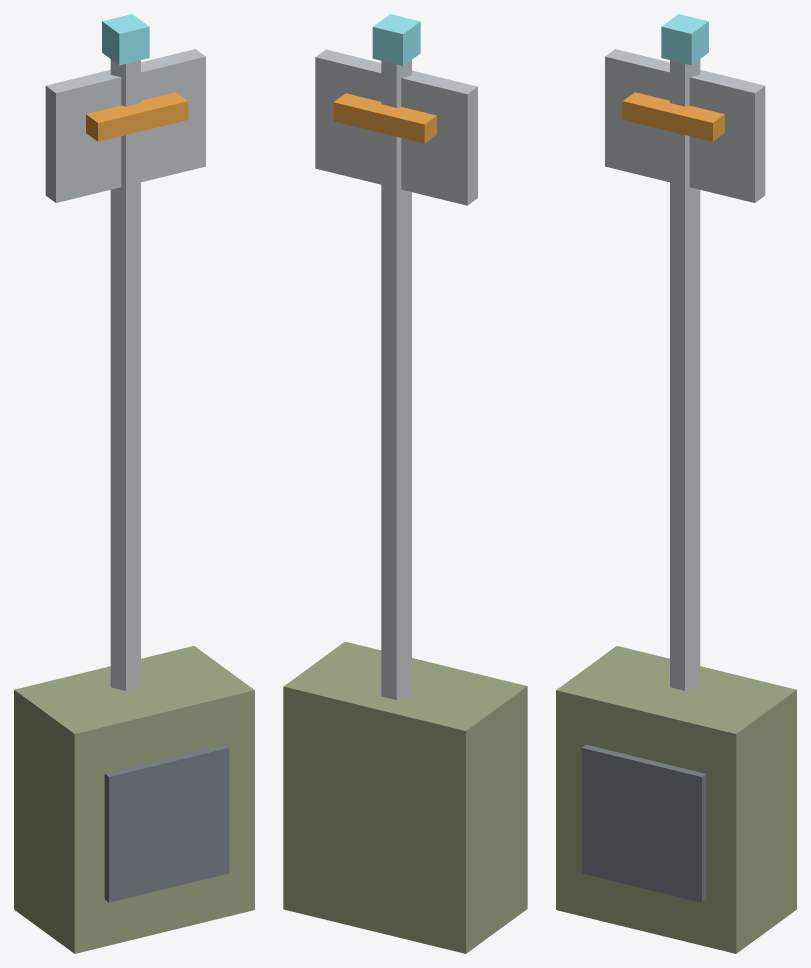
Rendered from mod-line-mech-back-26898.glb.
The picture shows the model from 3 angles, left to right: view 1: azimuth 30°, elevation 25°; view 2: azimuth 150°, elevation 25°; view 3: azimuth 330°, elevation 25°; orthographic projection.
Bounding box in the file's own units: 2.53 × 11.8 × 1.58.
